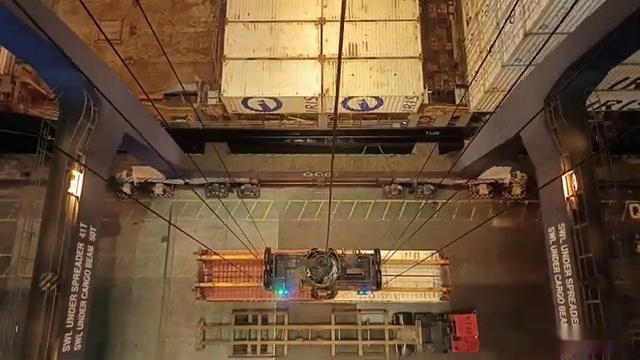container: (190, 247, 453, 308), (221, 57, 426, 112), (223, 21, 427, 60), (208, 1, 436, 30), (209, 0, 433, 26), (223, 0, 424, 21), (228, 0, 420, 3), (216, 0, 432, 2)
guide_mark: (108, 199, 549, 220), (81, 346, 556, 360)
spreader: (191, 249, 455, 309)
target_slot: (167, 315, 447, 360)
